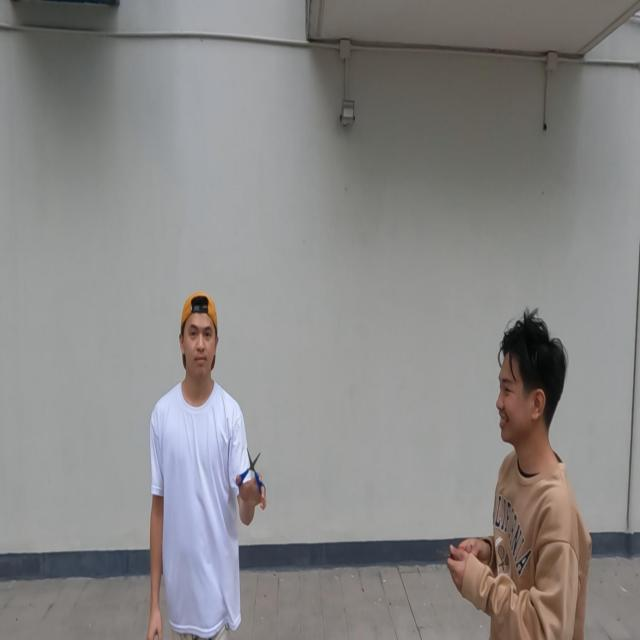scissor: (235, 447, 267, 500)
